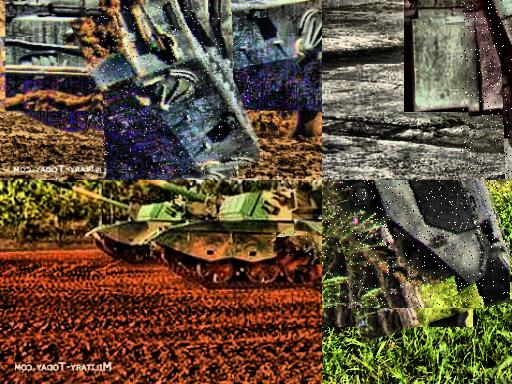tanks: (90, 2, 260, 178), (327, 181, 511, 309), (152, 186, 323, 288), (88, 202, 205, 264), (47, 181, 131, 215), (144, 181, 202, 204), (276, 233, 323, 259)
